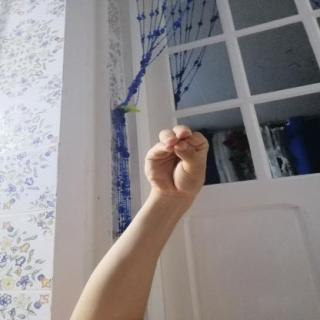HA: (126, 119, 227, 208)
